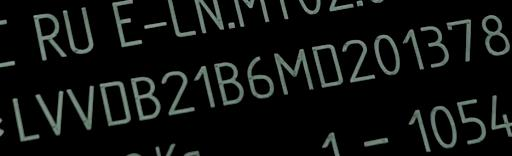letter: (270, 46, 314, 98), (94, 78, 136, 129), (159, 68, 195, 118), (309, 43, 345, 93), (34, 89, 68, 138), (243, 53, 275, 105), (476, 11, 510, 58), (129, 72, 161, 121), (64, 83, 96, 132), (418, 23, 450, 72), (342, 36, 374, 85), (212, 61, 244, 107), (446, 16, 476, 63), (10, 96, 40, 141), (372, 32, 402, 77), (192, 61, 216, 115), (398, 27, 424, 74)
